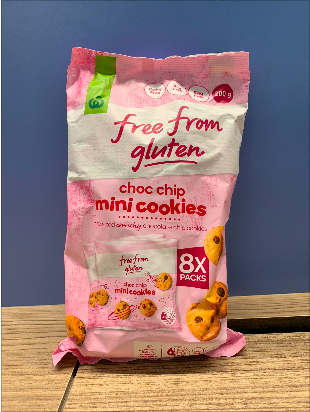Cookies_200-299g: (73, 66, 226, 353)
